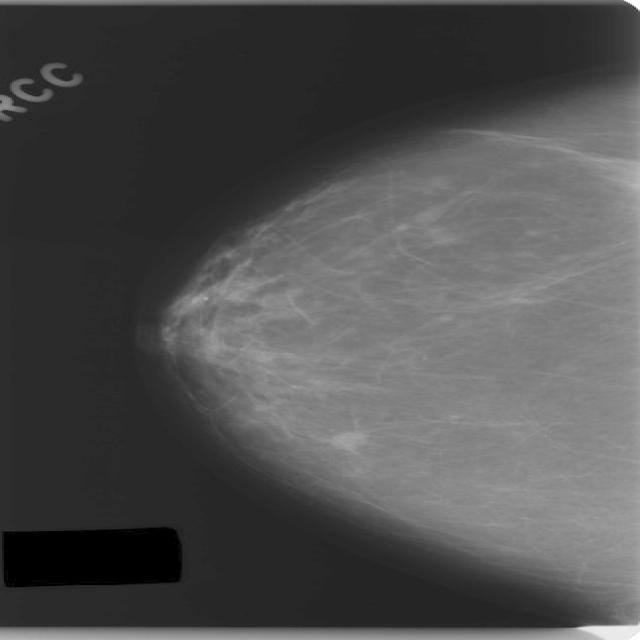tumour: (327, 429, 366, 450)
